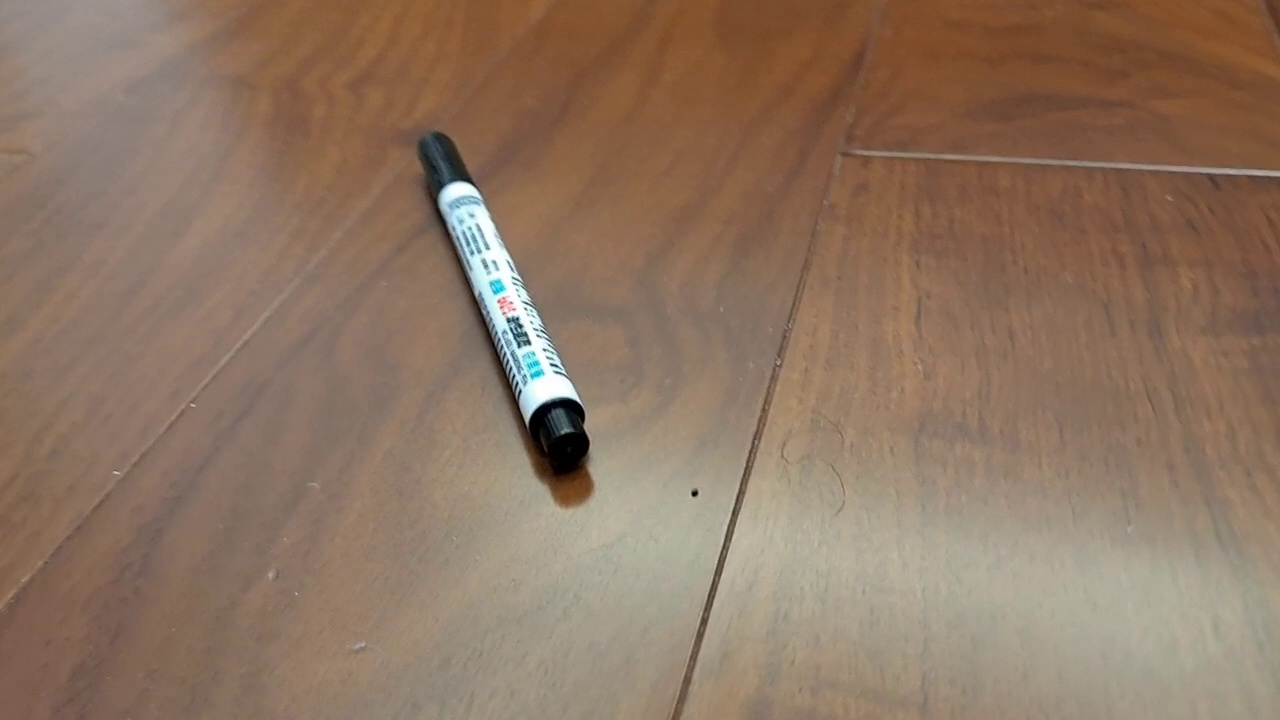pen: (415, 130, 591, 476)
